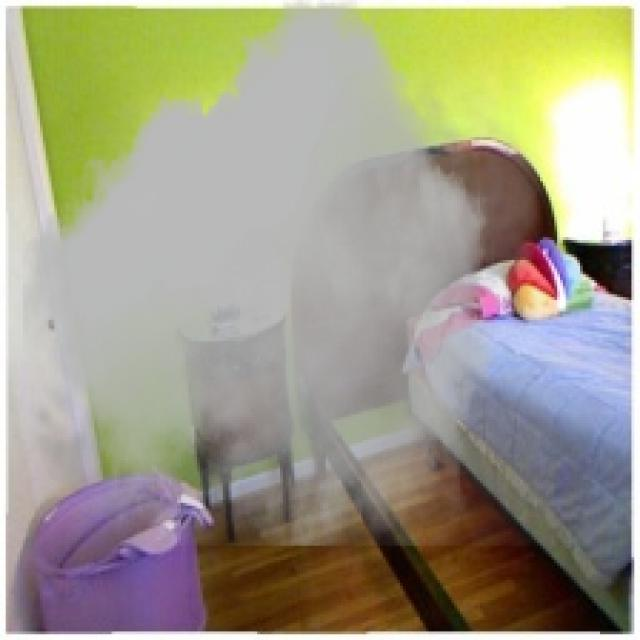smoke: (14, 0, 554, 546)
